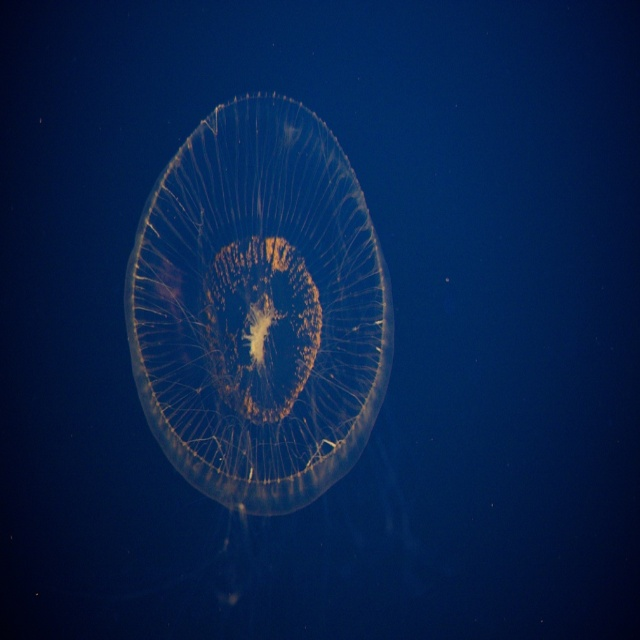Jellyfish: (118, 86, 385, 542)
